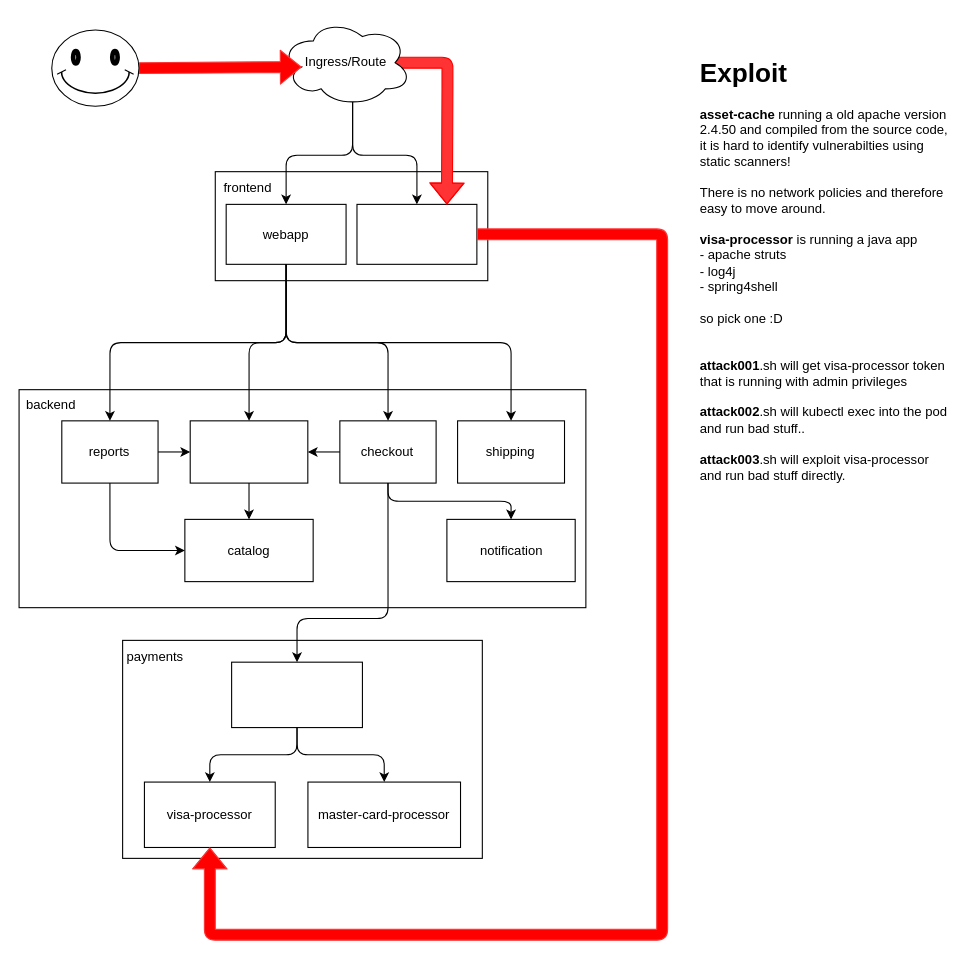
The diagram is 976 pixels wide and 959 high, and some of its shapes have lost their labels. Here are the shapes that lost their labels. From the top down, the box of each, then its label:
(51, 29, 139, 106): Attacker
(356, 203, 477, 264): asset-cache
(189, 420, 308, 483): recommendation
(231, 661, 362, 728): gateway
